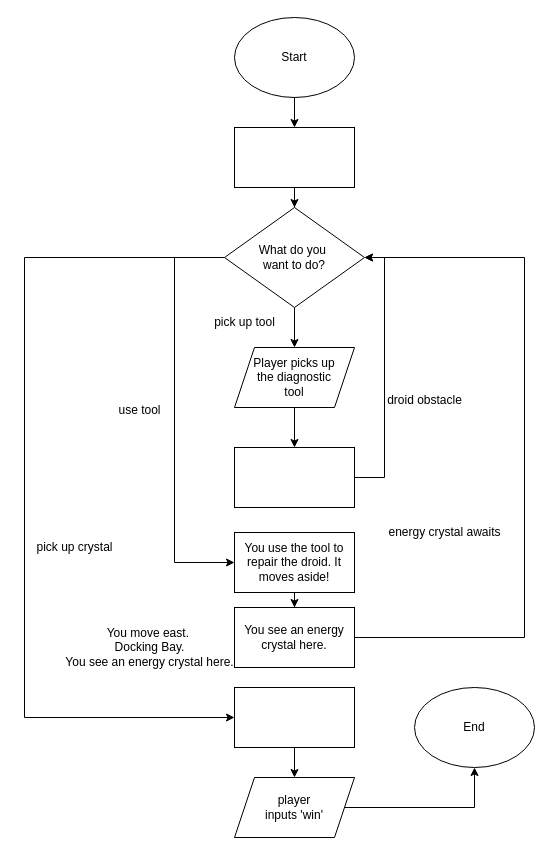
The diagram is 552 pixels wide and 855 high, and some of its shapes have lost their labels. Here are the shapes that lost their labels. From the top down, the centre of each, then its label:
the point at 294,157: You see a diagnostic tool here.
the point at 294,477: A maintenance droid blocks the way!
the point at 294,717: You picked up the energy crystal
